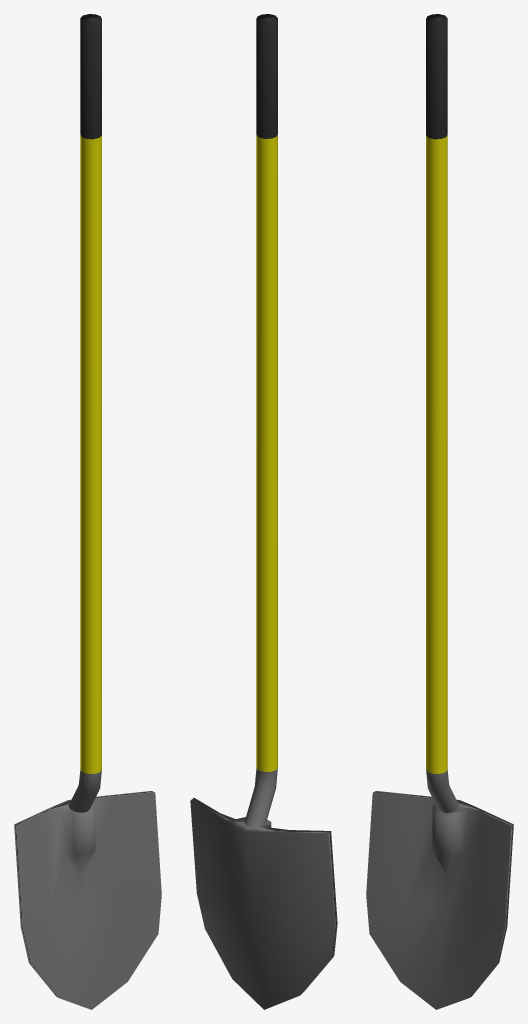
File: SM_Prop_Shovel.fbx
3 renders of one model, left to right at view 1: azimuth 30°, elevation 25°; view 2: azimuth 150°, elevation 25°; view 3: azimuth 330°, elevation 25°, orthographic.
Visible parts, largest first — view 1: SM_Prop_Shovel; view 2: SM_Prop_Shovel; view 3: SM_Prop_Shovel.
Part boxes in pixels (x1,y1,x2,y2): SM_Prop_Shovel: [14, 14, 161, 1009]; SM_Prop_Shovel: [190, 14, 337, 1009]; SM_Prop_Shovel: [366, 14, 513, 1009].
Bounding box in the file's own units: 22 × 152 × 7.78.
